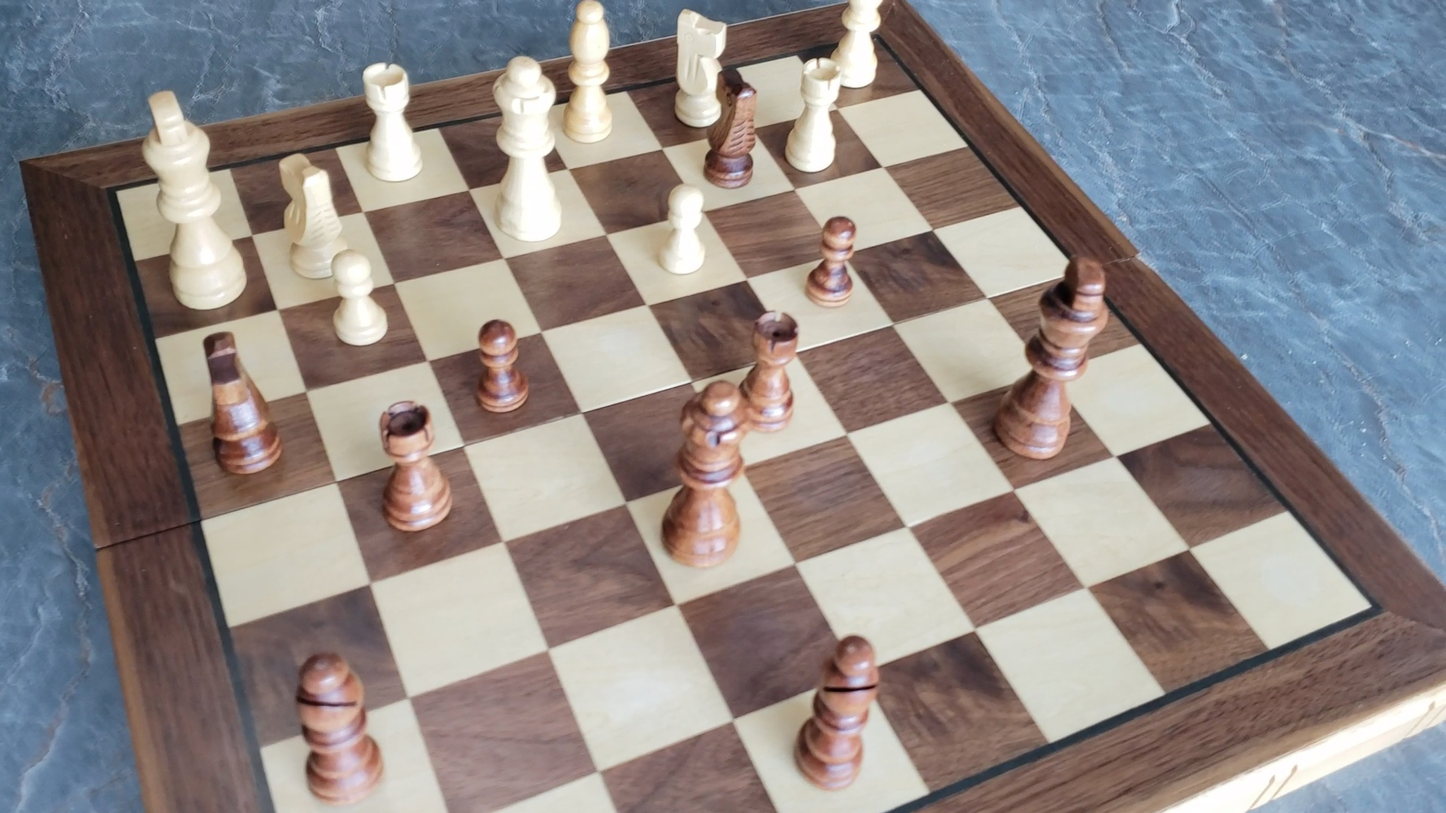black-bishop: (291, 646, 385, 805), (793, 631, 883, 792)
black-king: (993, 251, 1112, 461)
black-knight: (189, 320, 299, 480), (703, 67, 764, 196)
black-pawn: (471, 316, 530, 416), (804, 212, 860, 309)
black-queen: (657, 377, 754, 570)
black-rook: (376, 397, 453, 533), (742, 308, 802, 430)
white-bishop: (562, 0, 616, 146), (828, 0, 888, 94)
white-king: (136, 85, 248, 315)
white-knight: (273, 148, 350, 282), (669, 6, 730, 129)
white-pawn: (322, 246, 395, 351), (652, 178, 717, 281)
white-queen: (487, 49, 568, 247)
white-rook: (358, 57, 425, 185), (785, 59, 849, 187)
